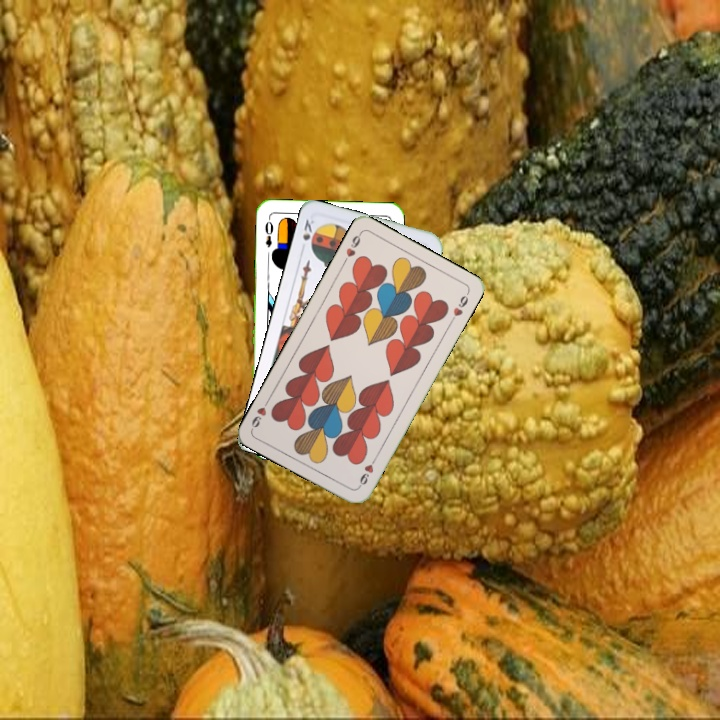EO: (261, 214, 276, 250)
H9: (354, 453, 380, 490), (339, 229, 364, 266)
SK: (298, 215, 317, 243)
